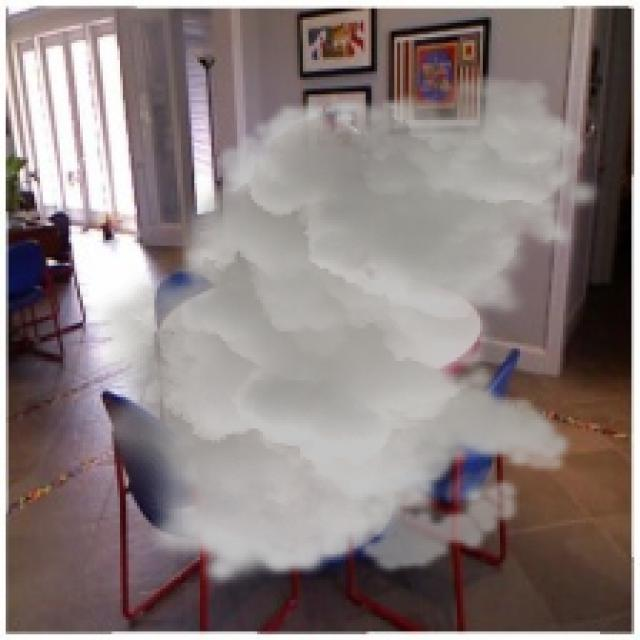smoke: (80, 71, 606, 588)
